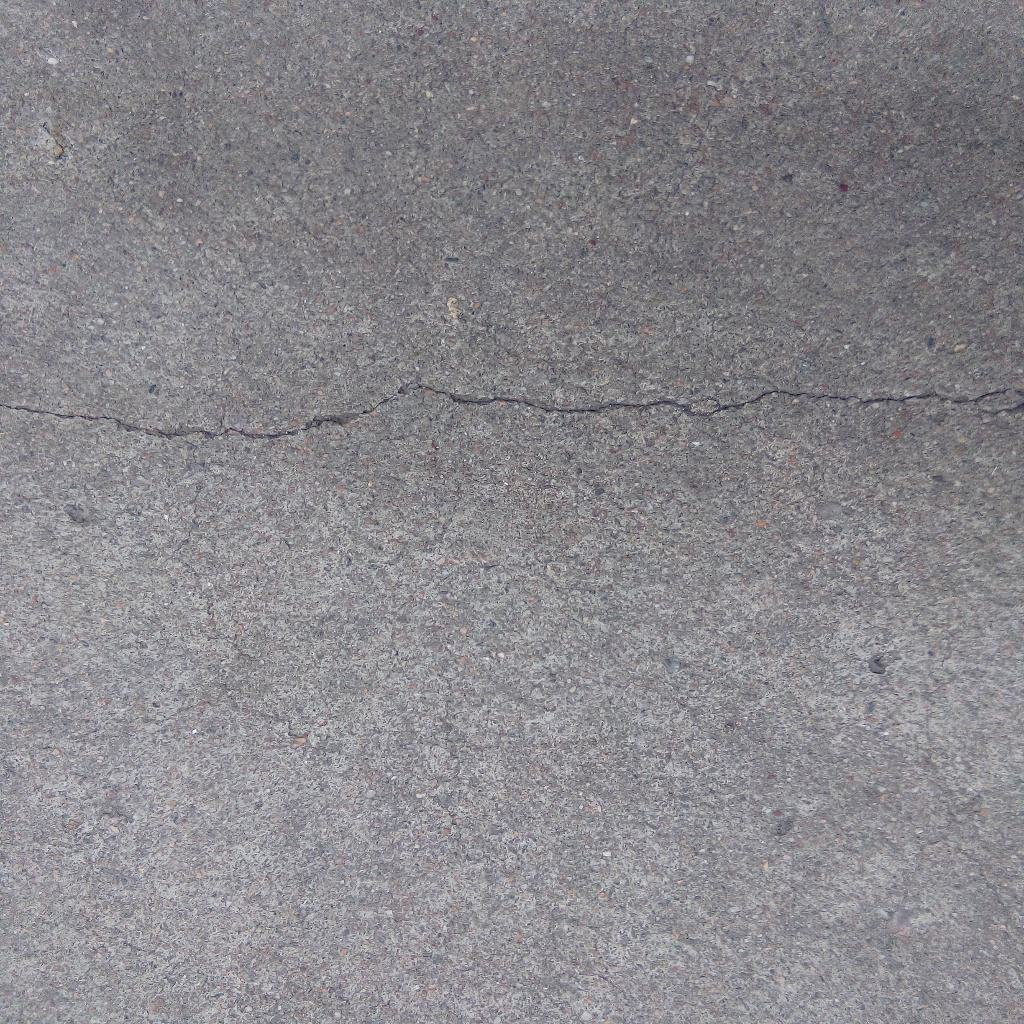Crack: (1, 381, 1024, 442)
